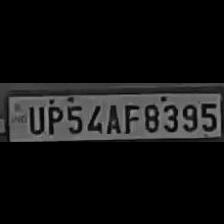3: (160, 100, 178, 132)
4: (84, 100, 104, 132)
5: (64, 101, 84, 133), (198, 99, 218, 131)
8: (141, 100, 159, 132)
9: (179, 99, 197, 130)
A: (102, 100, 120, 132)
F: (121, 100, 139, 132)
P: (44, 100, 62, 134)
U: (24, 102, 43, 132)
